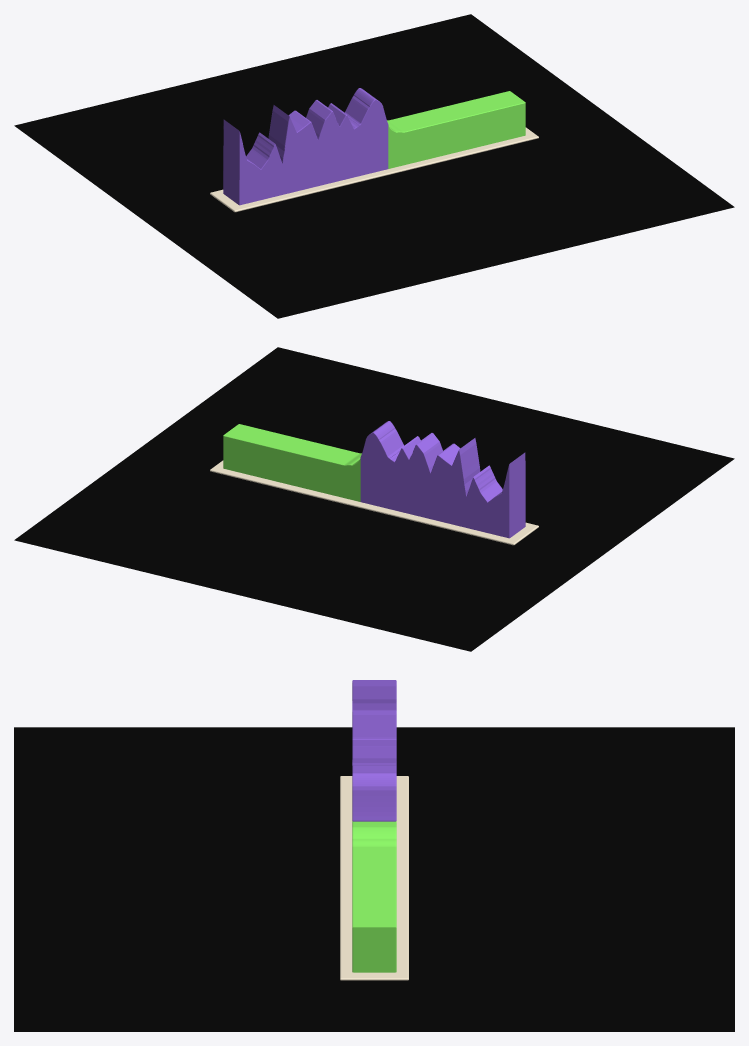
File: sett-scroll-grip-op-rekening.glb
3 renders of one model, top to bottom at view 1: azimuth 30°, elevation 25°; view 2: azimuth 150°, elevation 25°; view 3: azimuth 270°, elevation 25°, orthographic. The views are drawn at different scales.
Visible parts, largest first — view 1: contact_shadow, scroll_grow, object 2; view 2: contact_shadow, scroll_grow, object 2; view 3: contact_shadow, scroll_grow, object 2.
Part boxes in pixels (x1,y1,x2,y2): contact_shadow: [14, 14, 734, 318]; scroll_grow: [223, 88, 525, 205]; object 2: [210, 127, 538, 212]; contact_shadow: [14, 347, 734, 651]; scroll_grow: [223, 421, 525, 538]; object 2: [210, 460, 538, 545]; contact_shadow: [14, 727, 734, 1031]; scroll_grow: [352, 680, 396, 972]; object 2: [340, 776, 408, 980].
Size of the model in its own units: 2400 by 395 by 2400.
4 materials, 1 textured.
